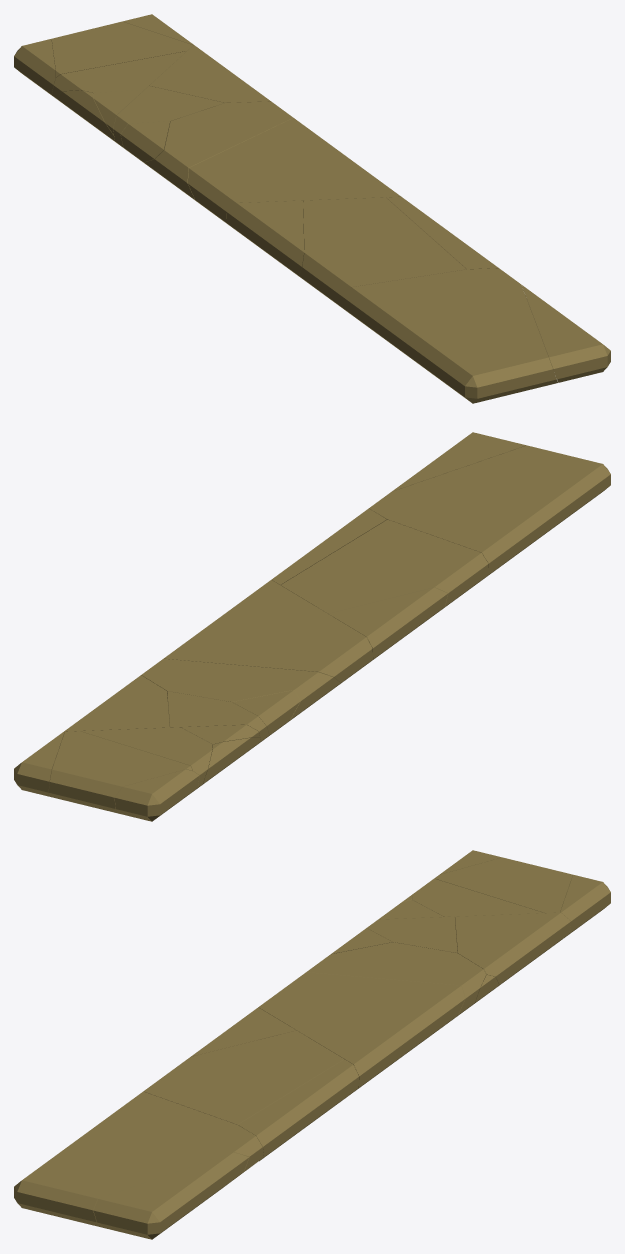
The model's file is DestroyedBeveledWoodPlank.fbx.
3 views of the same model, one above another, from view 1: azimuth 30°, elevation 25°; view 2: azimuth 150°, elevation 25°; view 3: azimuth 330°, elevation 25° (orthographic).
Visible parts, largest first — view 1: BeveledWoodPlank.001_cell_cell.005, BeveledWoodPlank.001_cell.002_cell.003, BeveledWoodPlank.001_cell_cell.002, BeveledWoodPlank.001_cell.002_cell.002, BeveledWoodPlank.001_cell.003_cell.004, BeveledWoodPlank.001_cell_cell, BeveledWoodPlank.001_cell_cell.003, BeveledWoodPlank.001_cell.002_cell.004, BeveledWoodPlank.001_cell.003_cell.006, BeveledWoodPlank.001_cell.002_cell.005, BeveledWoodPlank.001_cell_cell.001, BeveledWoodPlank.001_cell.003_cell.007 (+4 smaller); view 2: BeveledWoodPlank.001_cell_cell.005, BeveledWoodPlank.001_cell.002_cell.003, BeveledWoodPlank.001_cell_cell.002, BeveledWoodPlank.001_cell.003_cell.004, BeveledWoodPlank.001_cell.002_cell.002, BeveledWoodPlank.001_cell_cell, BeveledWoodPlank.001_cell.002_cell.004, BeveledWoodPlank.001_cell.003_cell.006, BeveledWoodPlank.001_cell.003_cell.007, BeveledWoodPlank.001_cell.002_cell.005, BeveledWoodPlank.001_cell_cell.003, BeveledWoodPlank.001_cell_cell.001 (+4 smaller); view 3: BeveledWoodPlank.001_cell_cell.005, BeveledWoodPlank.001_cell.002_cell.003, BeveledWoodPlank.001_cell_cell.002, BeveledWoodPlank.001_cell_cell.003, BeveledWoodPlank.001_cell.002_cell.004, BeveledWoodPlank.001_cell.002_cell.002, BeveledWoodPlank.001_cell_cell.001, BeveledWoodPlank.001_cell.003_cell.004, BeveledWoodPlank.001_cell.003_cell.006, BeveledWoodPlank.001_cell.002_cell.005, BeveledWoodPlank.001_cell.003_cell.003, BeveledWoodPlank.001_cell_cell (+3 smaller).
Part boxes in pixels (x1,y1,x2,y2): BeveledWoodPlank.001_cell_cell.005: (342, 268, 557, 403); BeveledWoodPlank.001_cell.002_cell.003: (188, 118, 400, 229); BeveledWoodPlank.001_cell_cell.002: (297, 197, 466, 313); BeveledWoodPlank.001_cell.002_cell.002: (139, 101, 293, 206); BeveledWoodPlank.001_cell.003_cell.004: (51, 21, 192, 78); BeveledWoodPlank.001_cell_cell: (226, 200, 304, 275); BeveledWoodPlank.001_cell_cell.003: (521, 285, 610, 382); BeveledWoodPlank.001_cell.002_cell.004: (149, 45, 270, 102); BeveledWoodPlank.001_cell.003_cell.006: (52, 51, 186, 105); BeveledWoodPlank.001_cell.002_cell.005: (113, 86, 224, 153); BeveledWoodPlank.001_cell_cell.001: (386, 196, 498, 269); BeveledWoodPlank.001_cell.003_cell.007: (14, 39, 55, 95); BeveledWoodPlank.001_cell_cell.005: (369, 445, 610, 578); BeveledWoodPlank.001_cell.002_cell.003: (164, 580, 372, 684); BeveledWoodPlank.001_cell_cell.002: (281, 519, 488, 617); BeveledWoodPlank.001_cell.003_cell.004: (48, 731, 192, 814); BeveledWoodPlank.001_cell.002_cell.002: (141, 658, 340, 731); BeveledWoodPlank.001_cell_cell: (328, 587, 447, 662); BeveledWoodPlank.001_cell.002_cell.004: (64, 675, 170, 731); BeveledWoodPlank.001_cell.003_cell.006: (80, 727, 212, 795); BeveledWoodPlank.001_cell.003_cell.007: (114, 769, 199, 821); BeveledWoodPlank.001_cell.002_cell.005: (167, 691, 269, 747); BeveledWoodPlank.001_cell_cell.003: (392, 432, 526, 491); BeveledWoodPlank.001_cell_cell.001: (271, 508, 386, 584); BeveledWoodPlank.001_cell_cell.005: (14, 1091, 263, 1228); BeveledWoodPlank.001_cell.002_cell.003: (258, 972, 465, 1090); BeveledWoodPlank.001_cell_cell.002: (143, 1030, 351, 1124); BeveledWoodPlank.001_cell_cell.003: (93, 1152, 248, 1239); BeveledWoodPlank.001_cell.002_cell.004: (455, 912, 570, 990); BeveledWoodPlank.001_cell.002_cell.002: (306, 942, 486, 1023); BeveledWoodPlank.001_cell_cell.001: (238, 1059, 358, 1161); BeveledWoodPlank.001_cell.003_cell.004: (434, 857, 572, 913); BeveledWoodPlank.001_cell.003_cell.006: (412, 878, 562, 940); BeveledWoodPlank.001_cell.002_cell.005: (367, 916, 457, 952); BeveledWoodPlank.001_cell.003_cell.003: (560, 874, 610, 938); BeveledWoodPlank.001_cell_cell: (191, 1007, 296, 1056).
Bounding box in the file's own units: 110 × 20 × 600.
